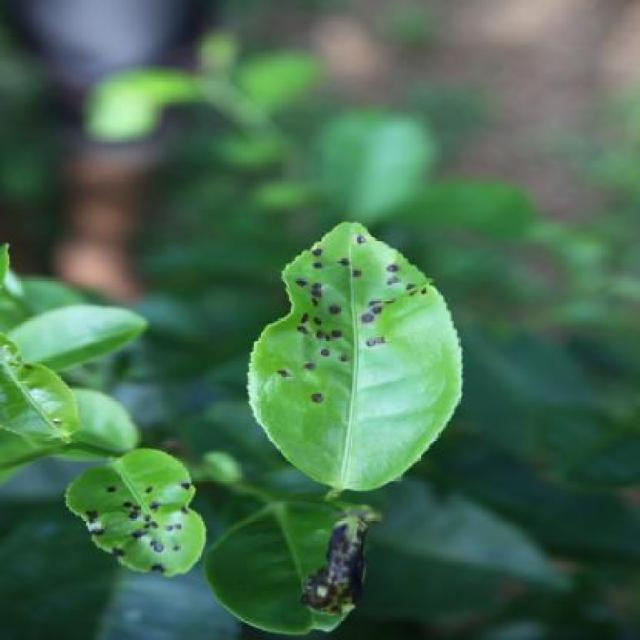Tea Mosquito bug infested leaf: (246, 217, 454, 492), (71, 456, 206, 572), (312, 512, 383, 622)
